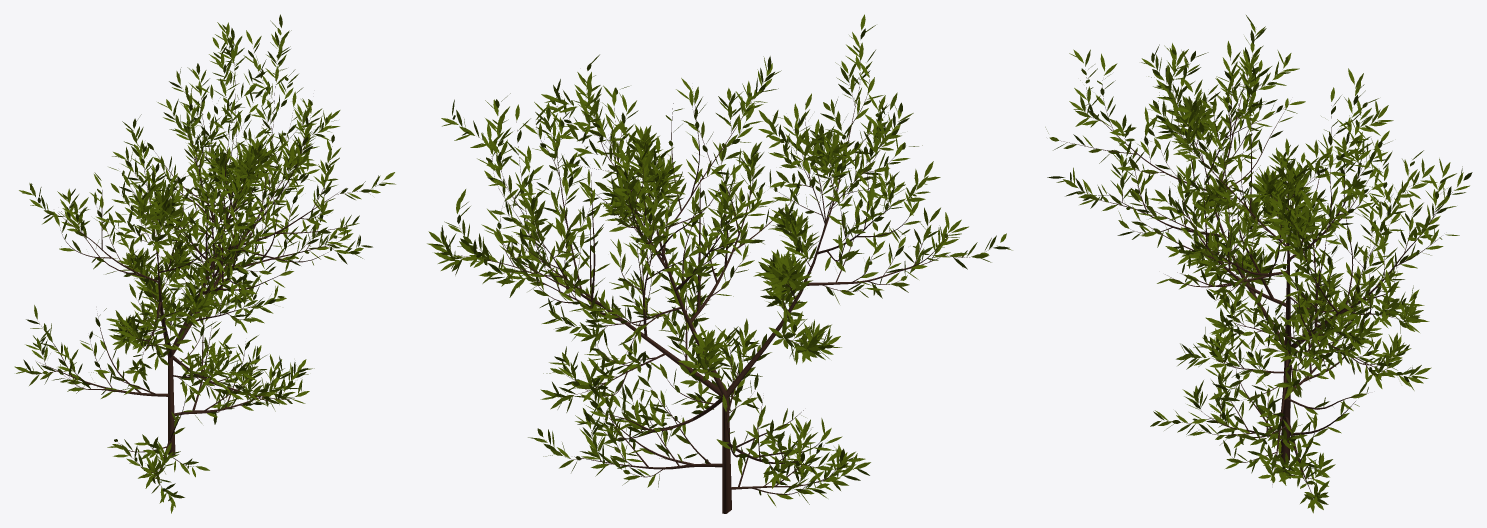
Rendered from bush.obj.
3 renders of one model, left to right at view 1: azimuth 30°, elevation 25°; view 2: azimuth 150°, elevation 25°; view 3: azimuth 270°, elevation 25°, orthographic. The views are drawn at different scales.
Visible parts, largest first — view 1: bush_leaves; view 2: bush_leaves; view 3: bush_leaves.
Boxes of the visible parts, bbox=[...] form: bush_leaves: bbox=[14, 14, 395, 513]; bush_leaves: bbox=[427, 14, 1012, 513]; bush_leaves: bbox=[1045, 15, 1472, 513].
Bounding box in the file's own units: 0.3893 × 0.4001 × 0.3556.
